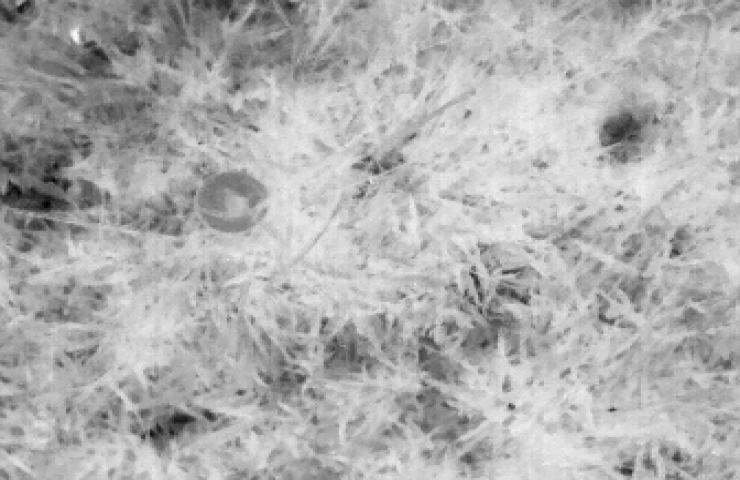landmines: (193, 160, 284, 240)
